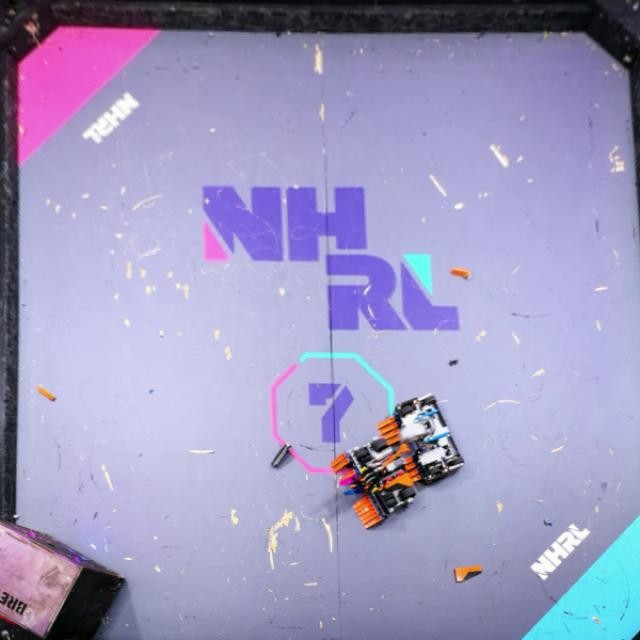housebot: (0, 519, 125, 640)
robot: (377, 391, 465, 486), (330, 440, 416, 529)
